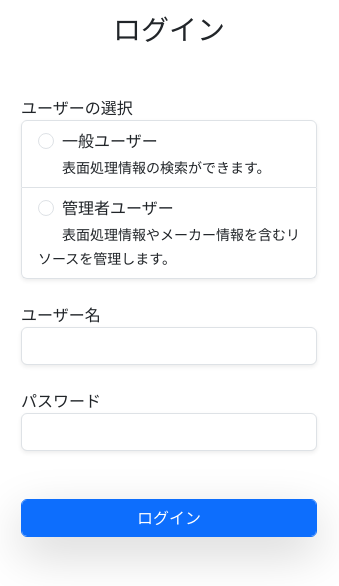
Scenario: LoginForm › ユーザーの選択 › 一般ユーザーを選択した場合、フォームの値が更新されること
Expected: the field with id "user-name" is empty, [21,327,317,365]
Click the radio button with id "general-user": (46,141) [38,133,54,149]
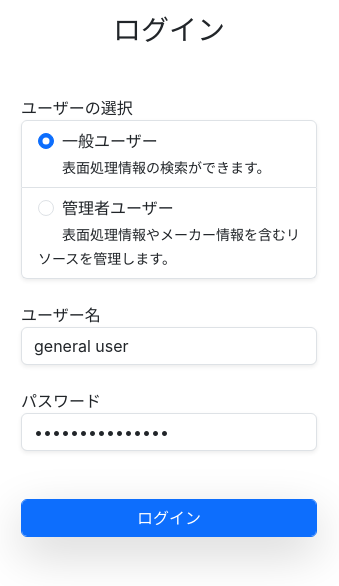
Expected: the field with id "user-name" is not empty, [21,327,317,365]
Expected: the password field with id "user-password" is not empty, [21,413,317,451]
